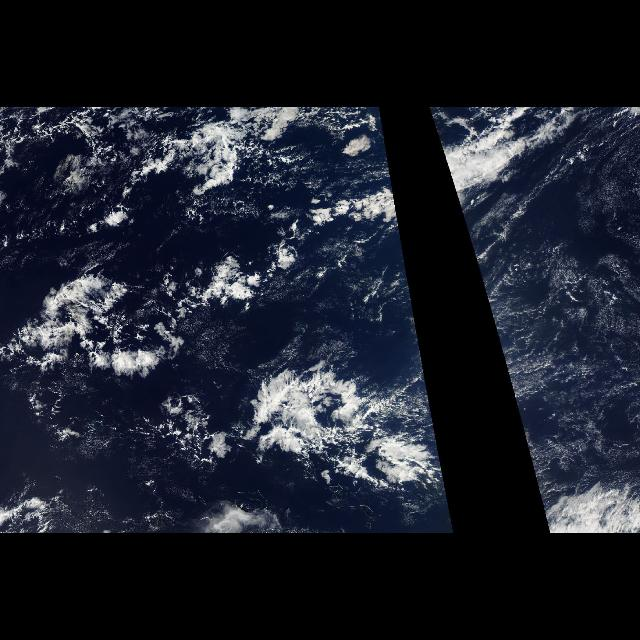Gravel: (24, 270, 256, 462)
Sugar: (480, 202, 640, 478)
